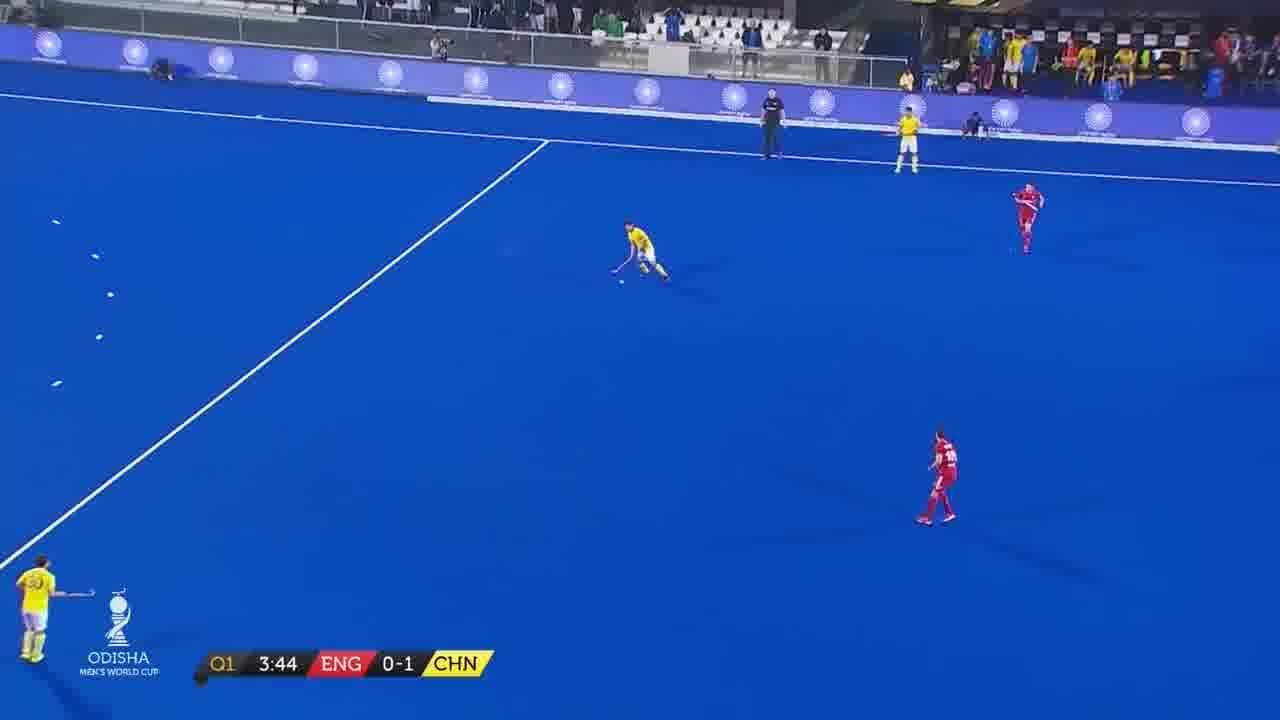ball: (618, 279, 624, 286)
